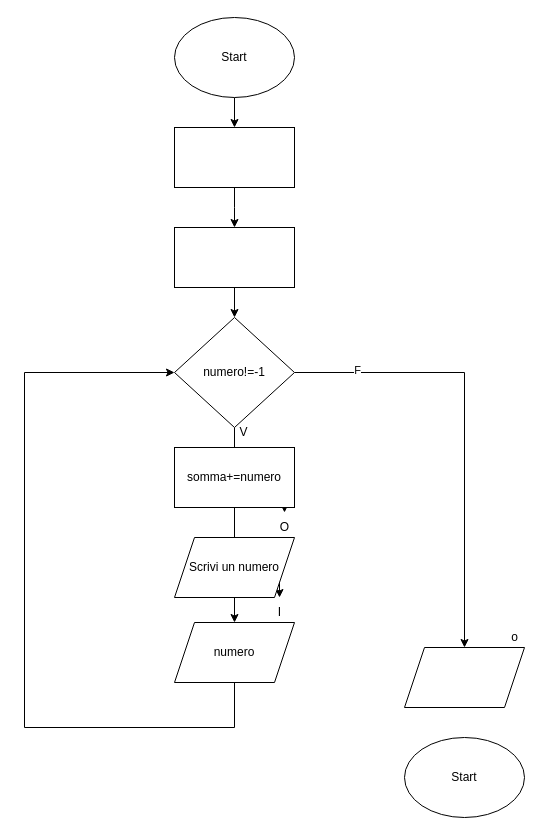
Image size: 547x835. Some labels were removed from this diagram. The shapes that lost their labels are listed below. From the top down, each one's centre as x and y in pixels, then its label:
point 234,157: int somma = 0
point 234,257: numero=0
point 464,677: somma
